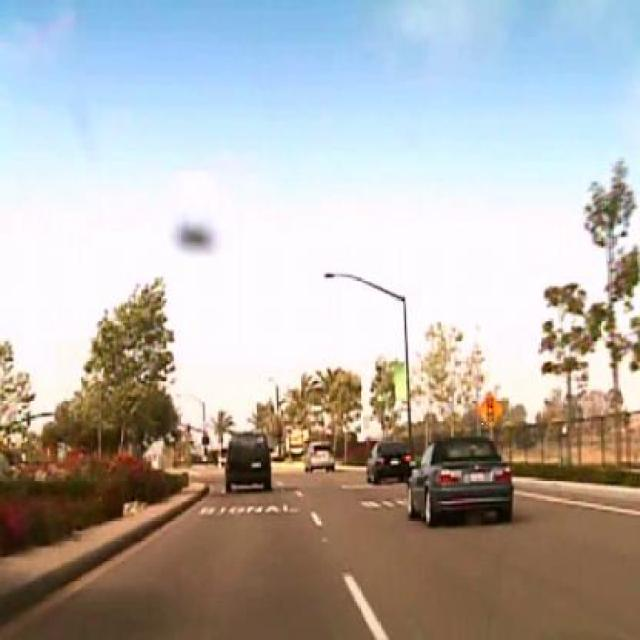signalAhead: (474, 391, 503, 429)
